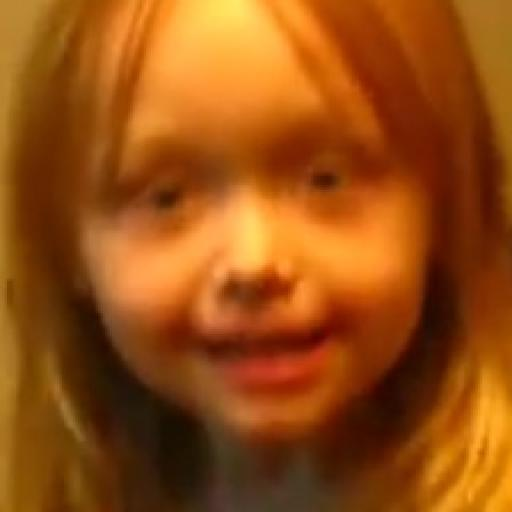Autism: (50, 2, 506, 432)
